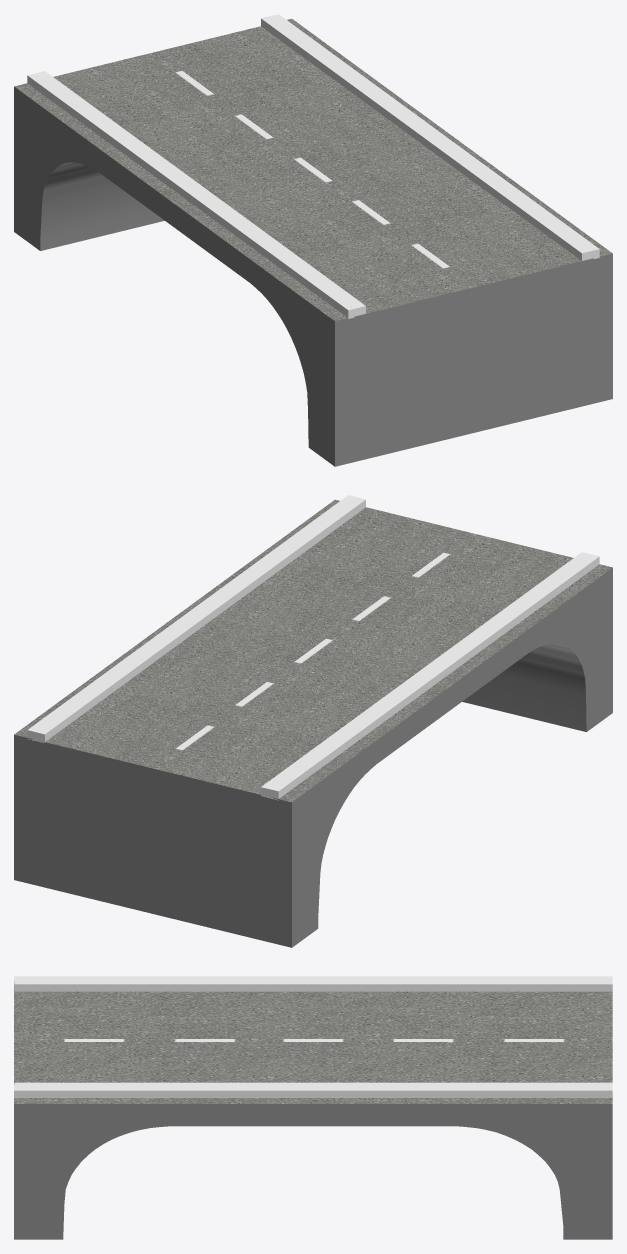
File: BRIDGE.fbx
The picture shows the model from 3 angles, top to bottom: view 1: azimuth 30°, elevation 25°; view 2: azimuth 150°, elevation 25°; view 3: azimuth 270°, elevation 25°; orthographic projection. The views are drawn at different scales.
Parts seen in each view (by area): view 1: Bridge; view 2: Bridge; view 3: Bridge.
Boxes of the visible parts, left/top/right/bottom form: Bridge: left=14, top=14, right=612, bottom=466; Bridge: left=14, top=495, right=612, bottom=947; Bridge: left=14, top=976, right=612, bottom=1239.
Size of the model in its own units: 600 by 316 by 1201.
